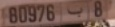0: (19, 6, 27, 23)
6: (46, 4, 55, 21)
7: (37, 4, 46, 22)
8: (9, 7, 17, 23), (94, 1, 102, 17)
9: (28, 5, 36, 22)
b: (66, 7, 84, 18)
